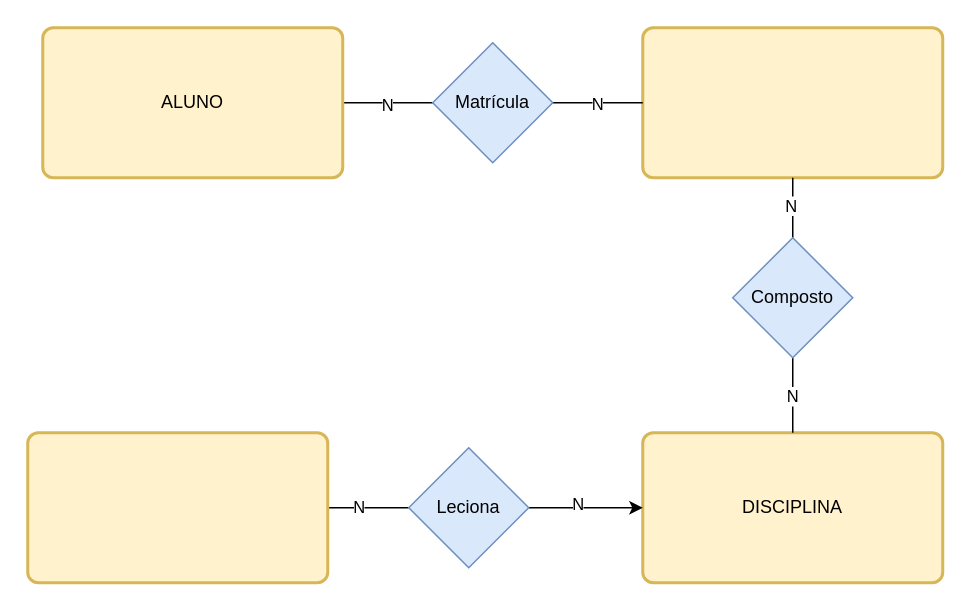
Image size: 969x609. Some labels were removed from this diagram. The shapes that lost their labels are listed below. From the top down, each one's box as (x1, y1, x2, y2) in pixels, then its label:
(640, 26, 944, 178): CURSO
(26, 430, 328, 584): PROFESSOR
